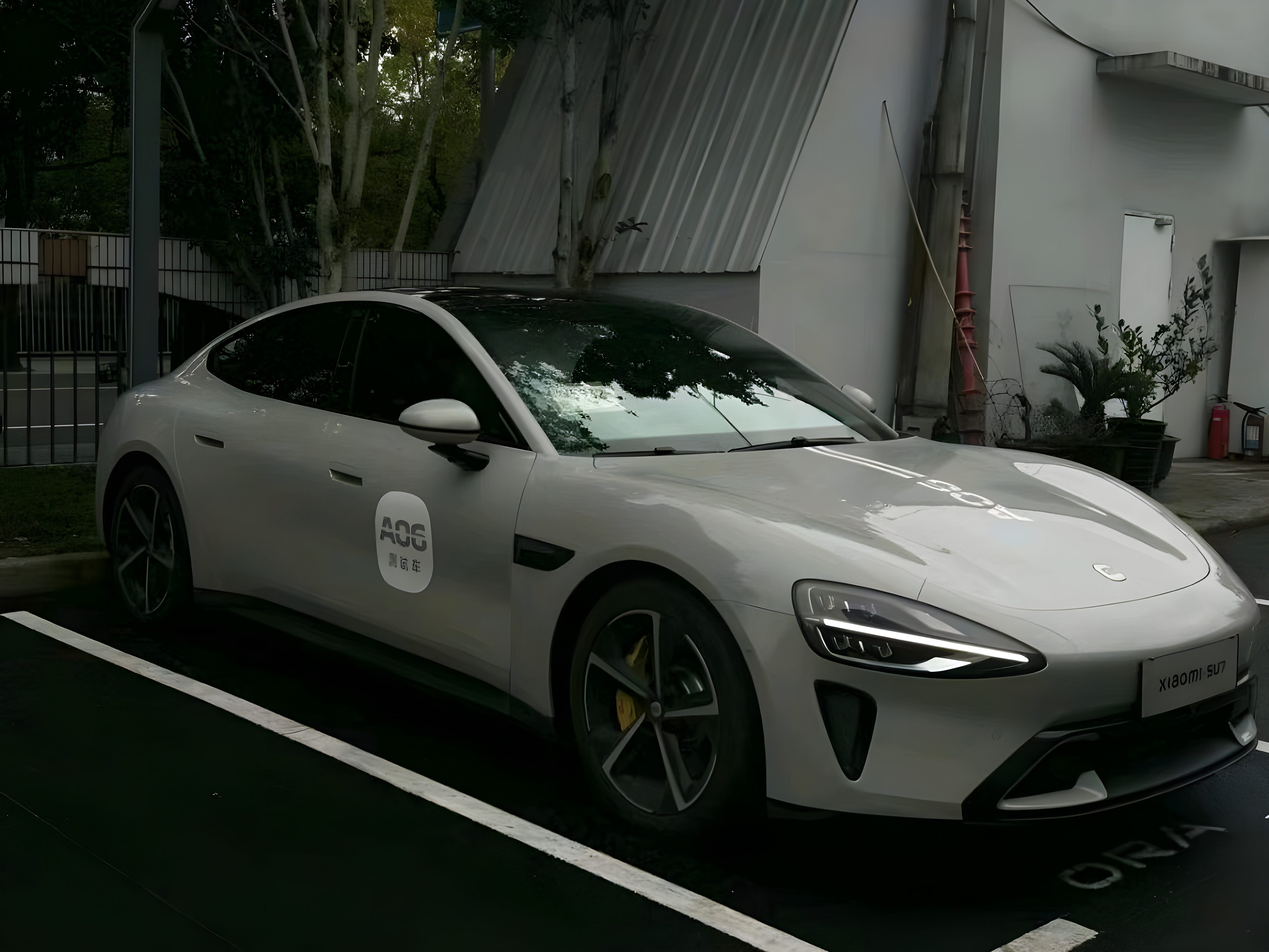su7: (85, 279, 1269, 856)
